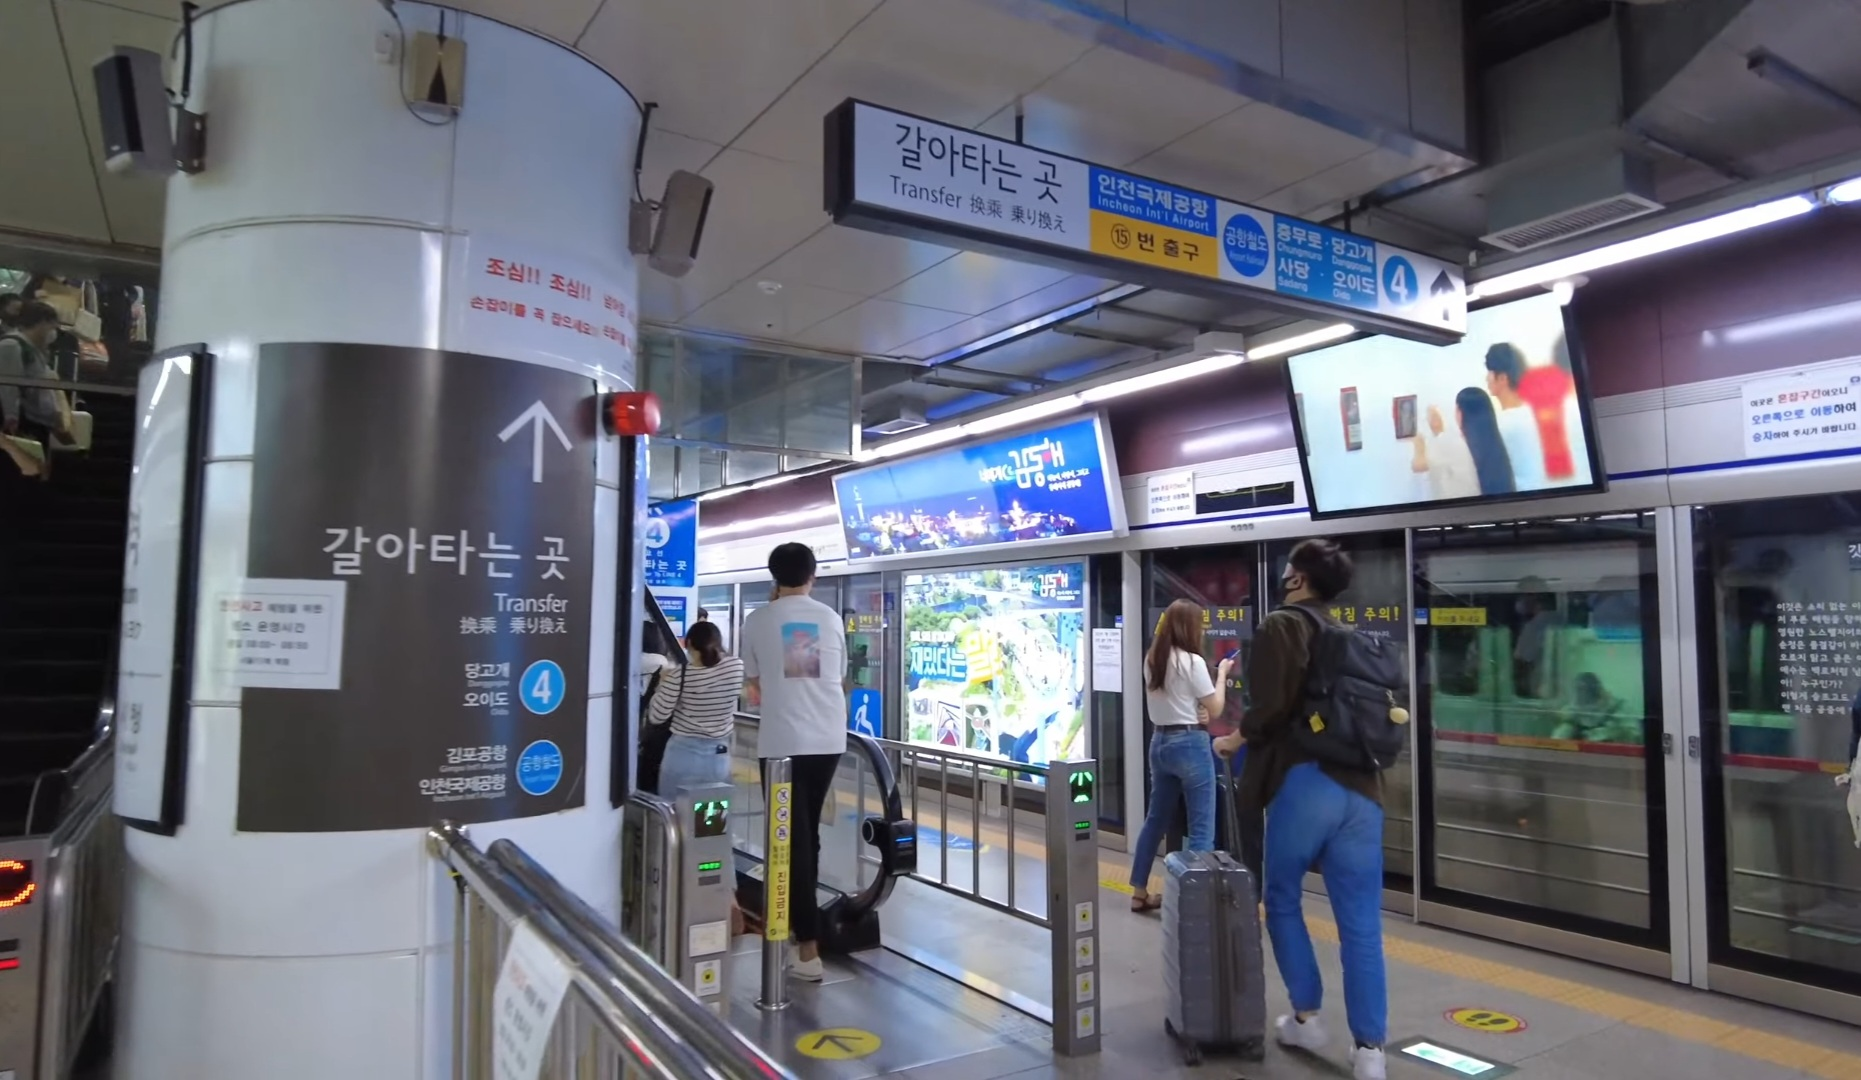signBoard: (805, 39, 1477, 354)
